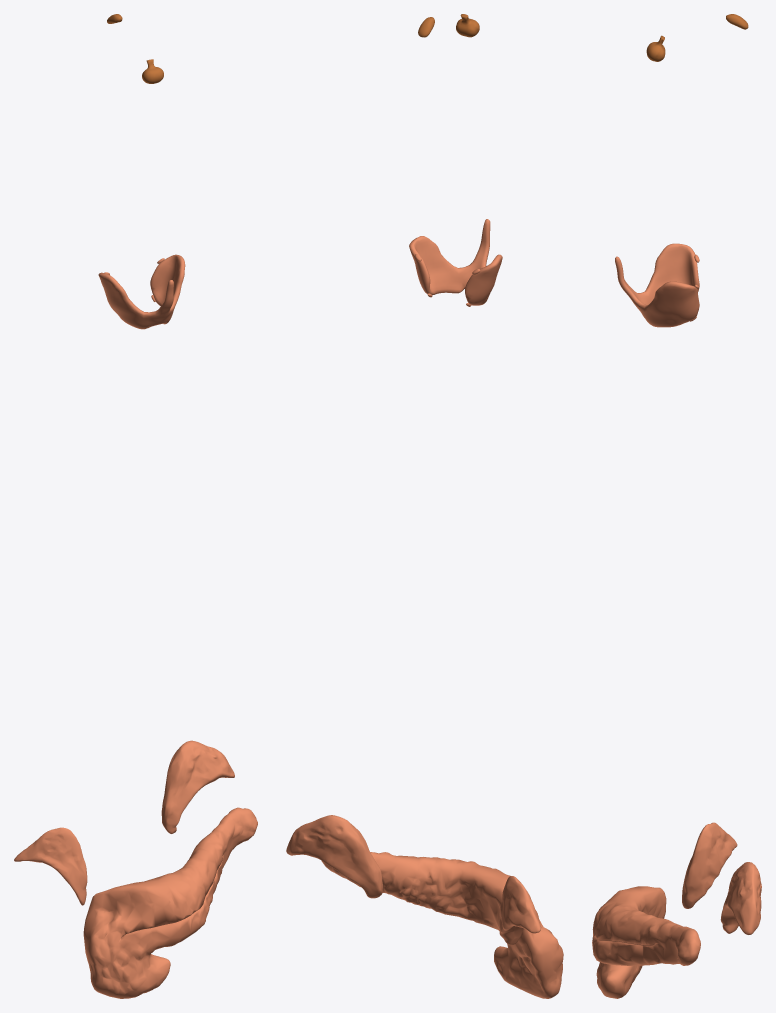
Rendered from detail-glands.glb.
3 renders of one model, left to right at view 1: azimuth 30°, elevation 25°; view 2: azimuth 150°, elevation 25°; view 3: azimuth 270°, elevation 25°, orthographic. The views are drawn at different scales.
Visible parts, largest first — view 1: detail-glands-0, detail-glands-8, detail-glands-10, detail-glands-9; view 2: detail-glands-0, detail-glands-8, detail-glands-10, detail-glands-9; view 3: detail-glands-0, detail-glands-10, detail-glands-9, detail-glands-8.
Boxes of the visible parts, left/top/right/bottom form: detail-glands-0: left=83, top=807, right=257, bottom=998; detail-glands-8: left=161, top=740, right=234, bottom=833; detail-glands-10: left=98, top=254, right=185, bottom=329; detail-glands-9: left=14, top=827, right=87, bottom=905; detail-glands-0: left=321, top=852, right=563, bottom=998; detail-glands-8: left=286, top=815, right=382, bottom=898; detail-glands-10: left=409, top=219, right=502, bottom=305; detail-glands-9: left=499, top=876, right=541, bottom=944; detail-glands-0: left=592, top=886, right=700, bottom=998; detail-glands-10: left=615, top=243, right=699, bottom=327; detail-glands-9: left=682, top=822, right=737, bottom=908; detail-glands-8: left=720, top=862, right=761, bottom=934.
Size of the model in its own units: 0.138 by 0.5406 by 0.0832.
